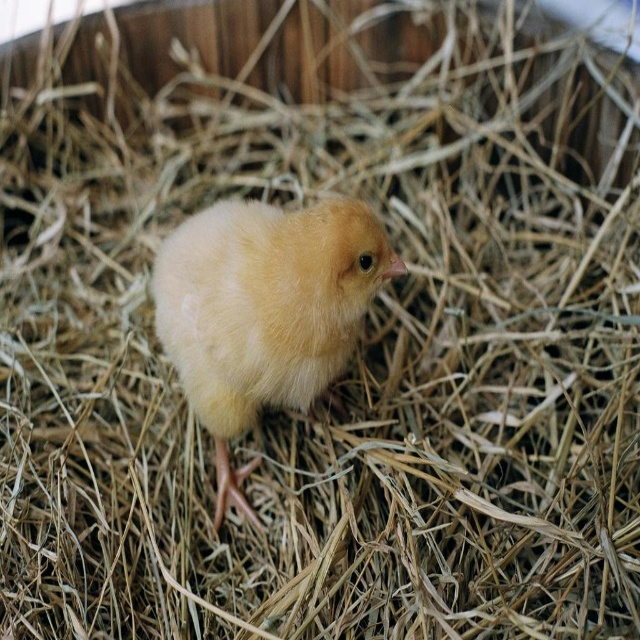Chicken: (128, 209, 402, 554)
